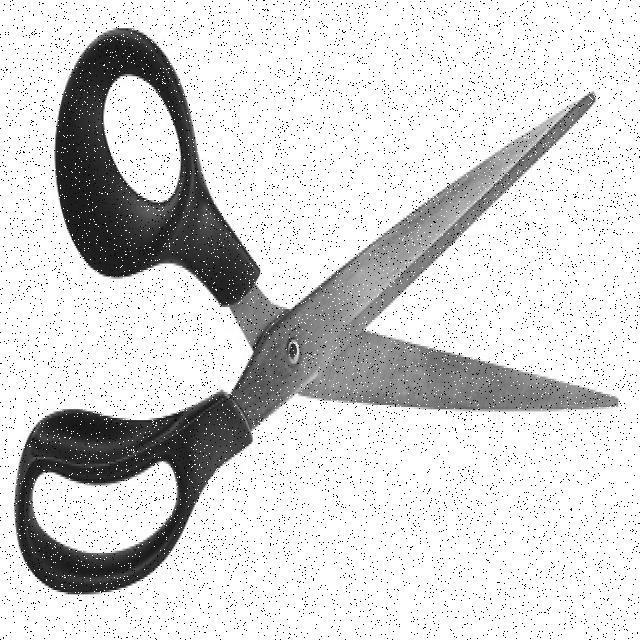scissors: (11, 18, 622, 598)
